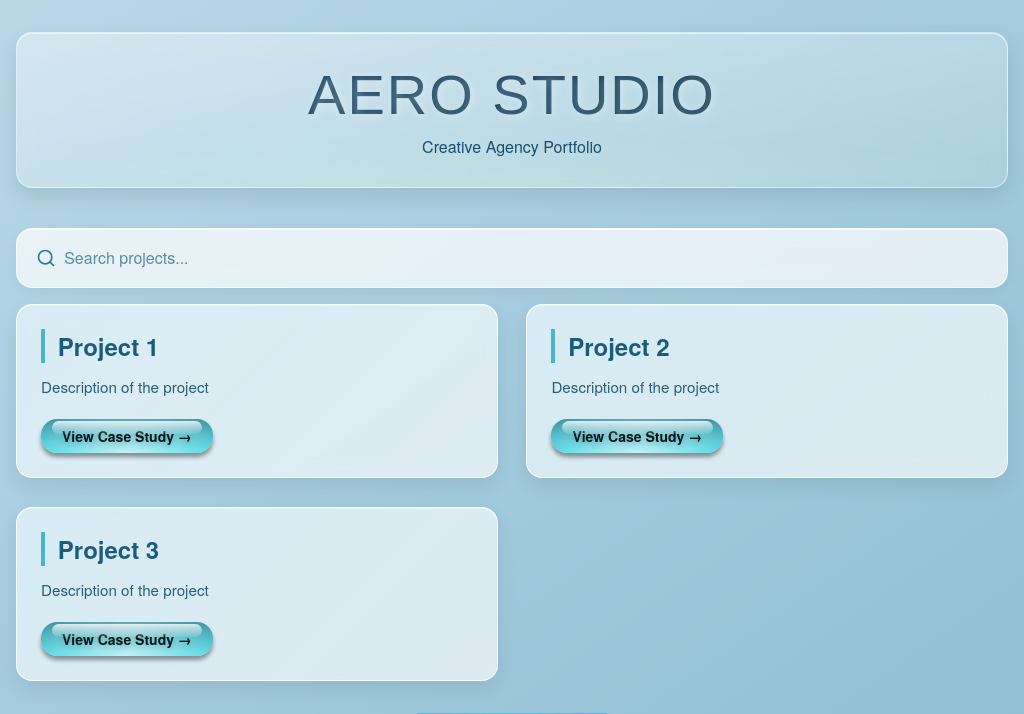
Test case: Aero Studio Portfolio › filters projects when searching
This screenshot has width=1024, height=714.
In the field with placeholder "Search projects...": (533, 258) [64,233,1002,282], type "Project 1"
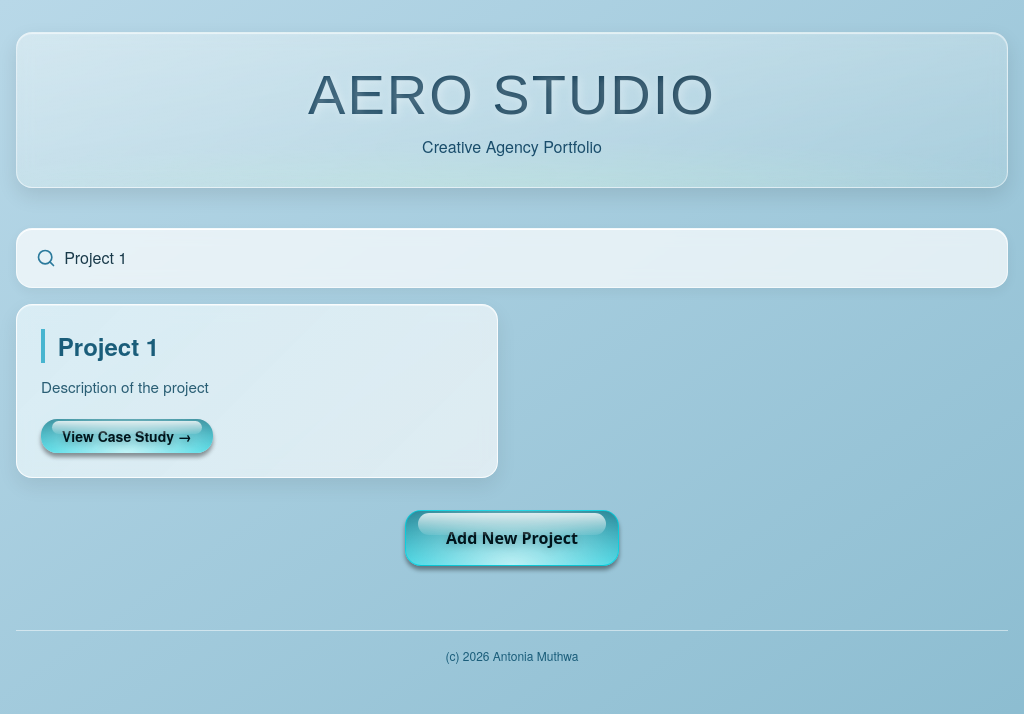
Expected: the heading "Project 1" is shown, [41,329,473,363]
Expected: the heading "Project 2" is gone
